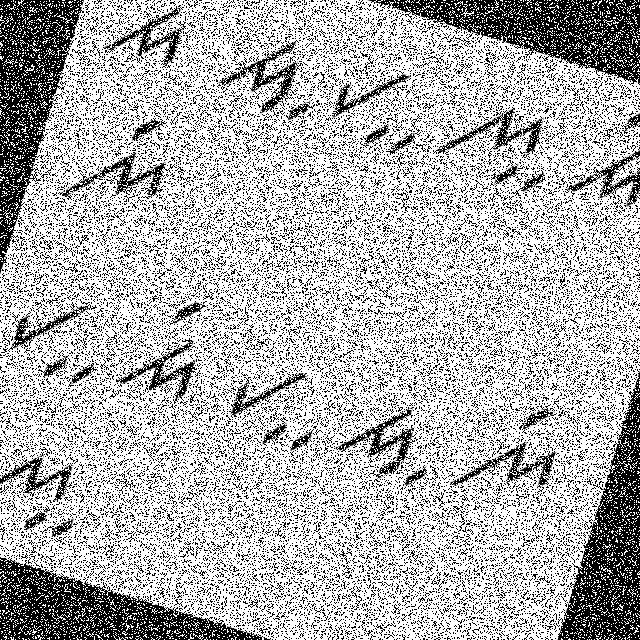dah: (206, 21, 330, 138), (330, 381, 448, 496)
dang: (105, 278, 219, 406), (559, 87, 639, 222), (103, 0, 214, 76)
nah: (430, 81, 566, 208), (0, 410, 106, 560)
nang: (46, 87, 191, 232), (447, 380, 578, 518)
pah: (0, 268, 118, 399), (215, 340, 337, 464), (322, 44, 440, 164)
